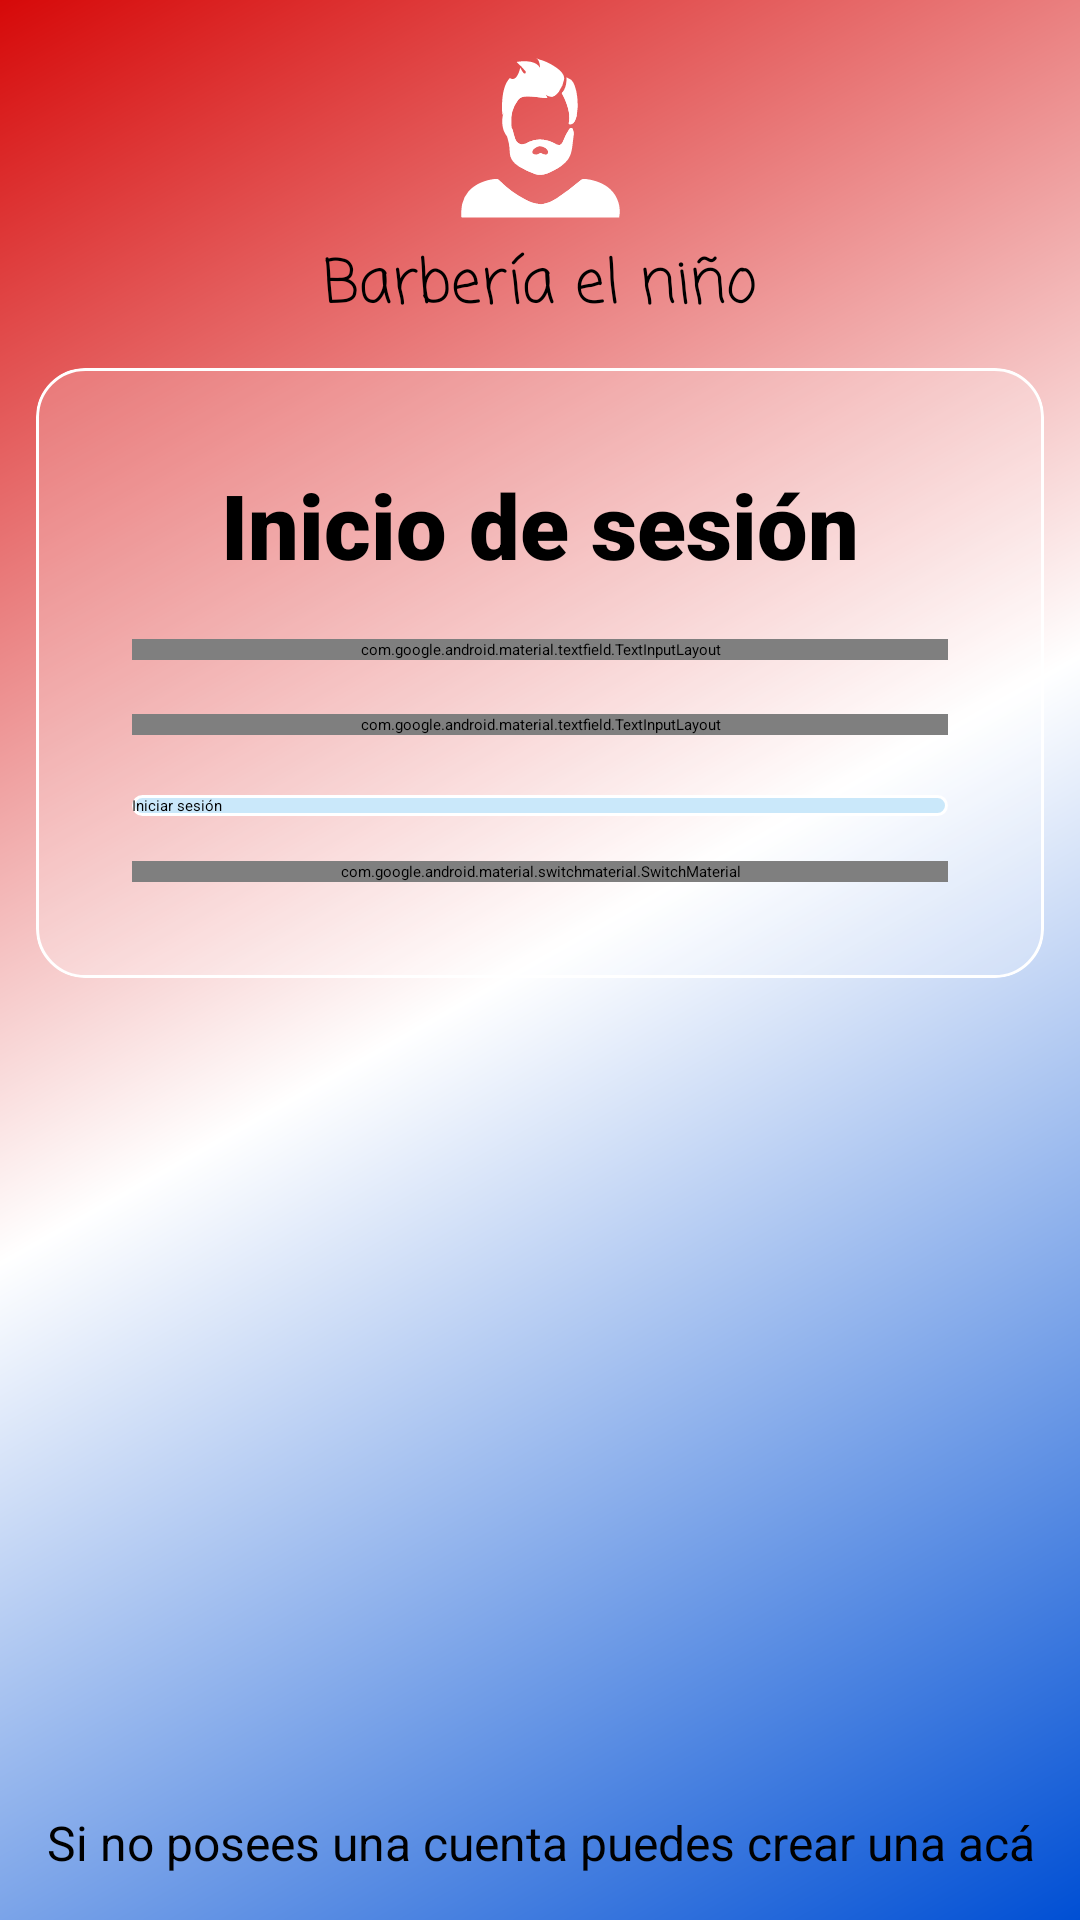

Screen size 1080px×1920px. Icon name, then its box in pixels as {"left": x1, "top": y1, "right": x2, "bottom": y2}:
beard man: {"left": 420, "top": 0, "right": 660, "bottom": 218}
